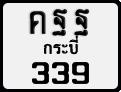letters: (52, 8, 68, 37), (31, 61, 50, 85), (74, 8, 90, 36), (51, 62, 70, 85), (72, 61, 90, 85), (29, 10, 46, 35)
province: (43, 35, 79, 56)
